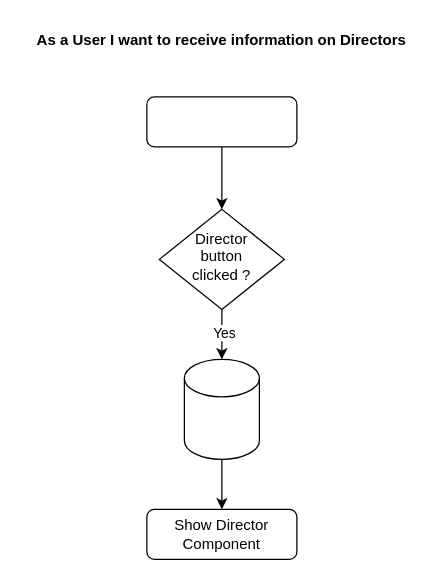
Image size: 443x581. Some labels were removed from this diagram. The shapes that lost their labels are listed below. From the top down, each one's centre as x and y in pixels, then its label:
[221,121]: Movie Details
[221,408]: Access Director DB
